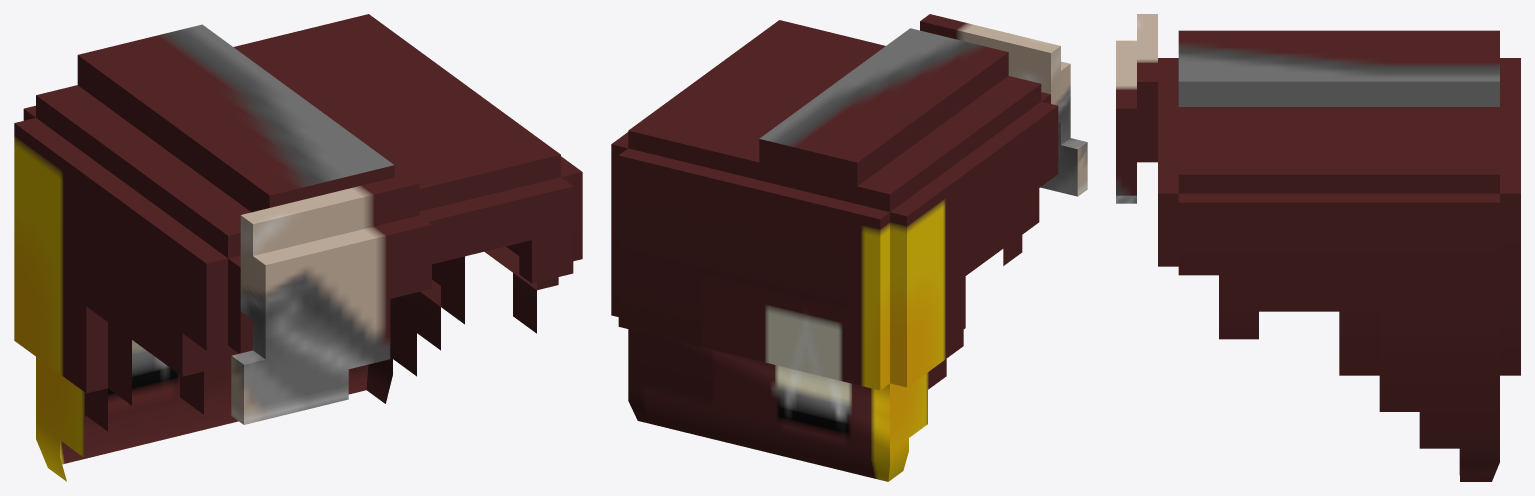
The model's file is hair.obj.
The picture shows the model from 3 angles, left to right: view 1: azimuth 30°, elevation 25°; view 2: azimuth 150°, elevation 25°; view 3: azimuth 270°, elevation 25°; orthographic projection. The views are drawn at different scales.
Parts seen in each view (by area): view 1: hair01; view 2: hair01; view 3: hair01.
Part boxes in pixels (x1,y1,x2,y2): hair01: (14,14,582,481); hair01: (611,14,1087,481); hair01: (1116,14,1520,481).
Bounding box in the file's own units: 50.94 × 51.92 × 56.79.
1 material, 1 textured.
